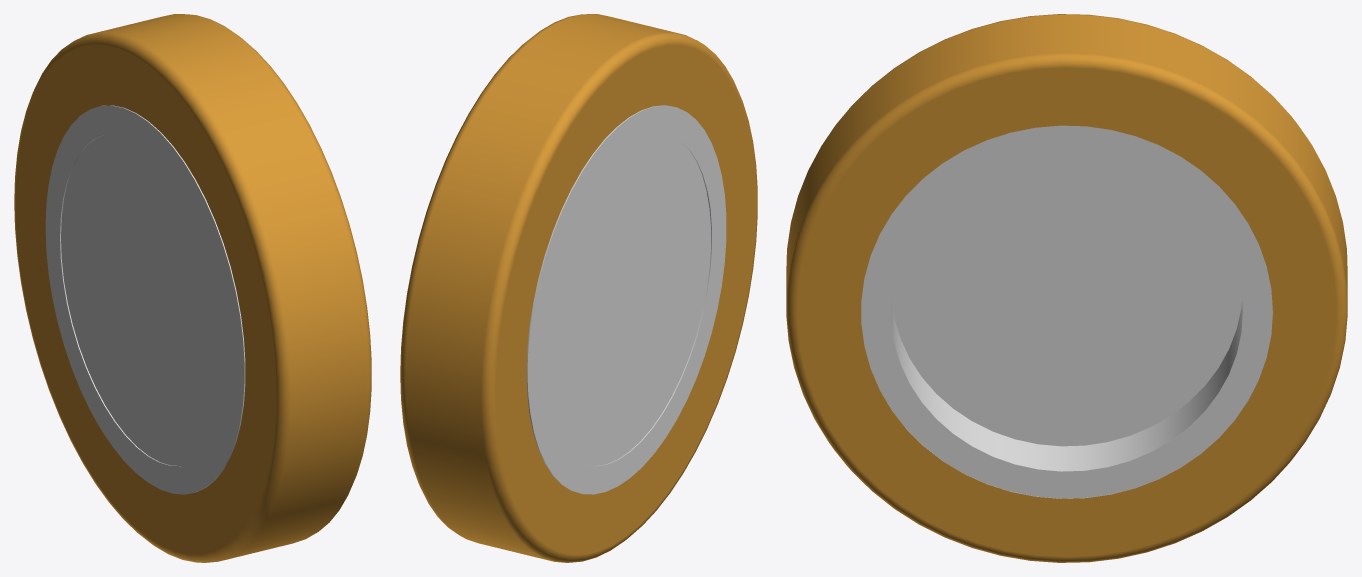
The model's file is MP-400-FIXED-WHEEL.dae.
3 views of the same model, side by side, from view 1: azimuth 30°, elevation 25°; view 2: azimuth 150°, elevation 25°; view 3: azimuth 270°, elevation 25° (orthographic). The views are drawn at different scales.
Parts seen in each view (by area): view 1: Volumenkörper1_001; view 2: Volumenkörper1_001; view 3: Volumenkörper1_001.
Boxes of the visible parts, x1,y1,x2,y2 form: Volumenkörper1_001: (14, 14, 371, 562); Volumenkörper1_001: (400, 14, 757, 562); Volumenkörper1_001: (786, 14, 1347, 562).
Size of the model in its own units: 30.3 by 150 by 150.
